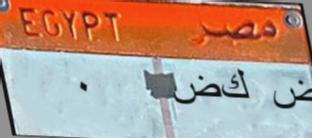0: (72, 73, 100, 101)
daad: (174, 73, 221, 112), (270, 73, 312, 111)
kaaf: (222, 67, 255, 104)
